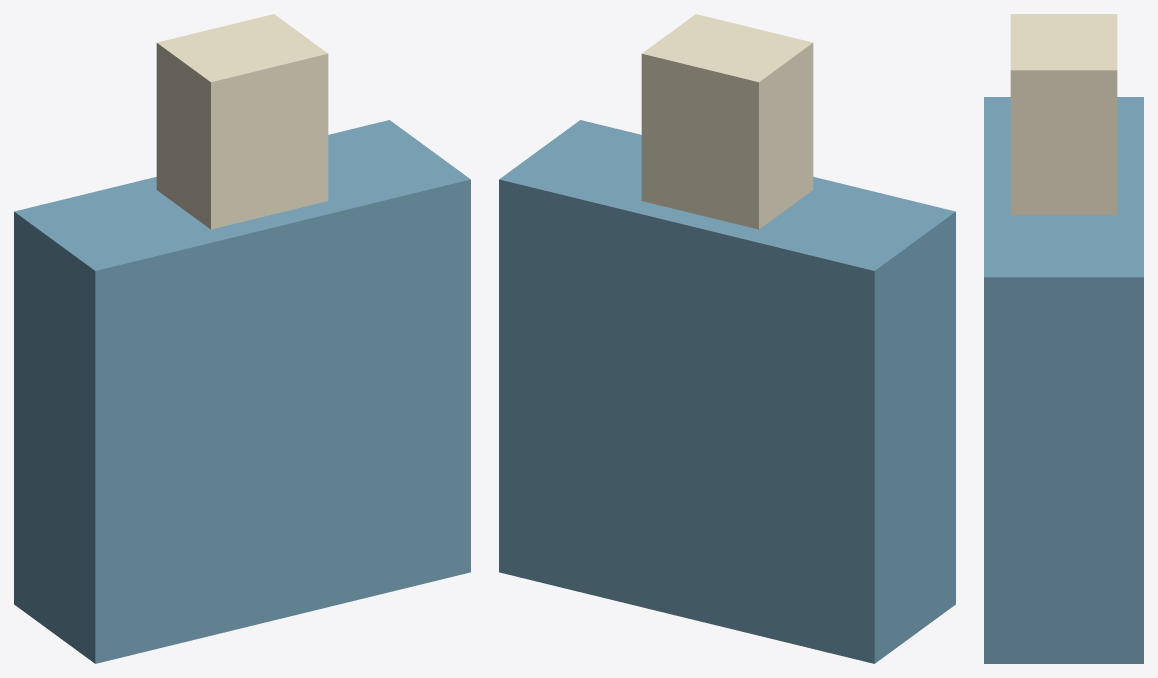
File: save.gltf
3 renders of one model, left to right at view 1: azimuth 30°, elevation 25°; view 2: azimuth 150°, elevation 25°; view 3: azimuth 270°, elevation 25°, orthographic.
Size of the model in its own units: 0.8 by 1.1 by 0.3.
